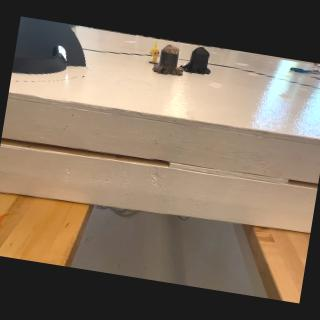teletubby: (150, 41, 160, 63)
